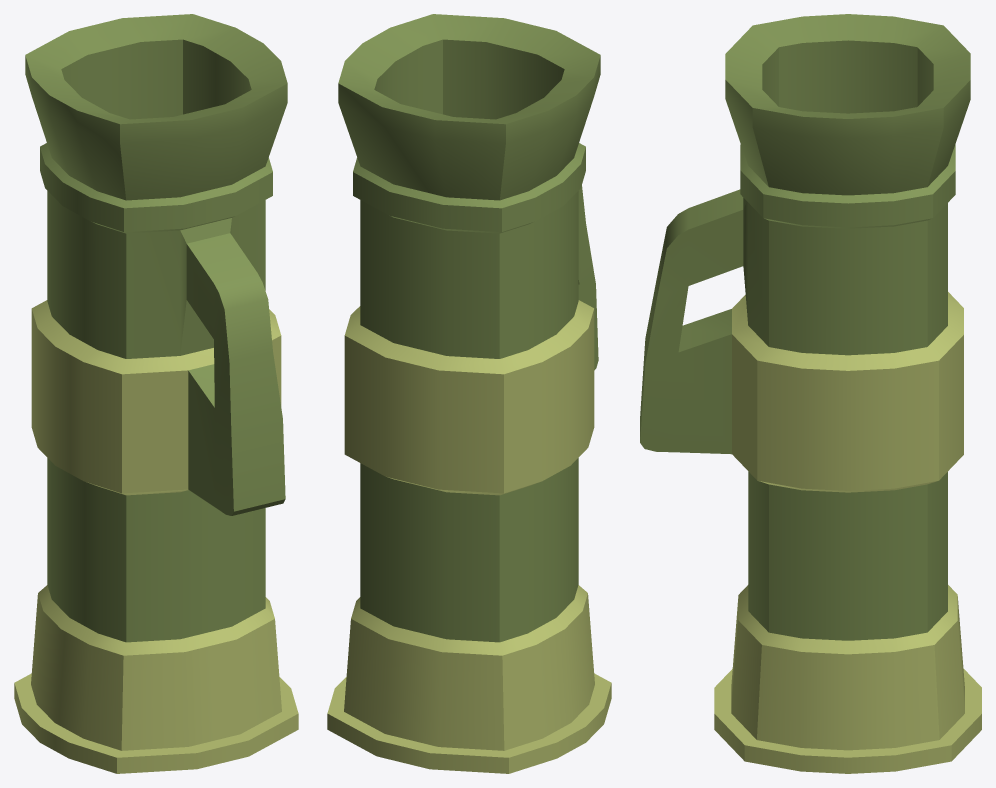
The model's file is bazooka.fbx.
3 views of the same model, side by side, from view 1: azimuth 30°, elevation 25°; view 2: azimuth 150°, elevation 25°; view 3: azimuth 270°, elevation 25° (orthographic).
Visible parts, largest first — view 1: Cylinder; view 2: Cylinder; view 3: Cylinder.
Part boxes in pixels (<box>): Cylinder: <box>14,14,298,773</box>; Cylinder: <box>327,14,611,773</box>; Cylinder: <box>640,14,981,773</box>.
Size of the model in its own units: 89.03 by 236 by 112.
